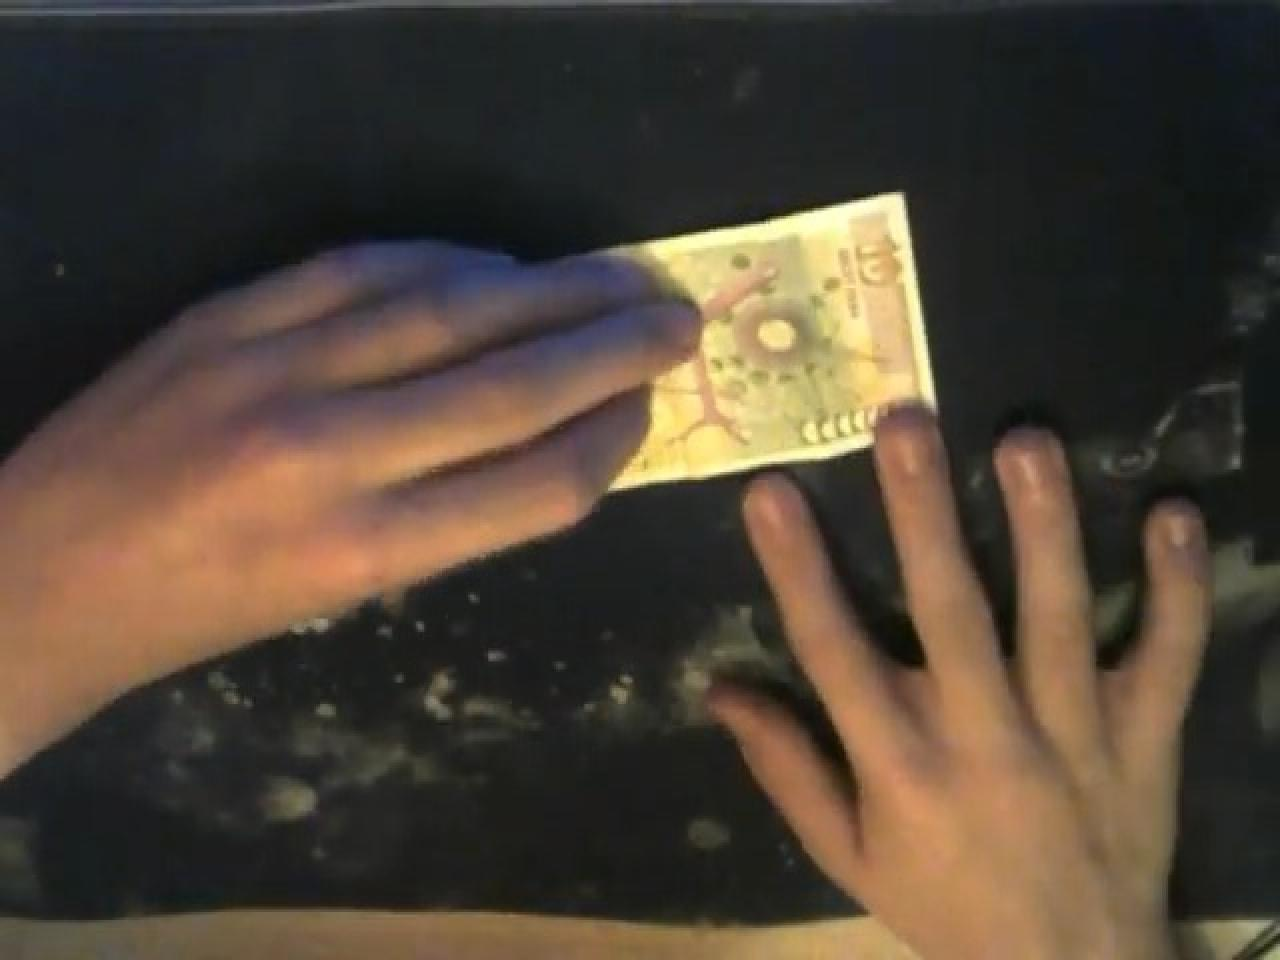10leva: (610, 190, 936, 488)
